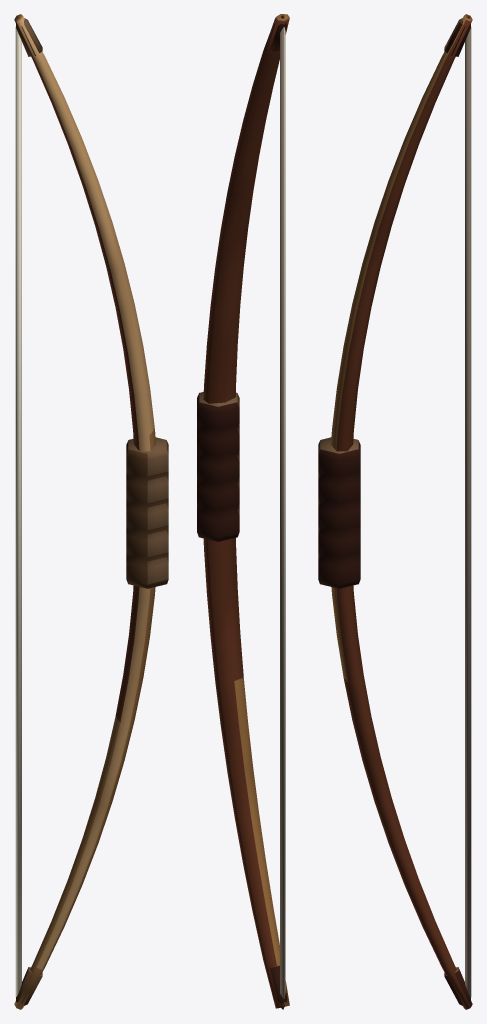
The model's file is bw_short_bow.glb.
3 renders of one model, left to right at view 1: azimuth 90°, elevation 25°; view 2: azimuth 210°, elevation 25°; view 3: azimuth 270°, elevation 25°, orthographic.
Visible parts, largest first — view 1: Weapon; view 2: Weapon; view 3: Weapon.
Boxes of the visible parts, x1,y1,x2,y2 form: Weapon: (14, 14, 168, 1009); Weapon: (197, 14, 289, 1009); Weapon: (318, 14, 472, 1009).
Bounding box in the file's own units: 0.0494 × 1.11 × 0.1559.
